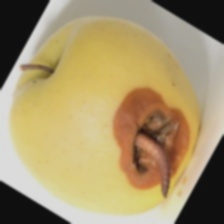apple: (41, 31, 218, 171)
